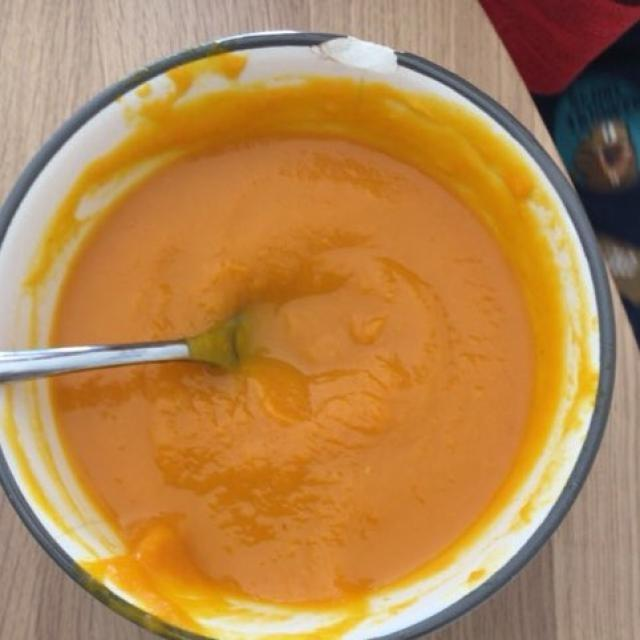soup: (23, 82, 570, 618)
